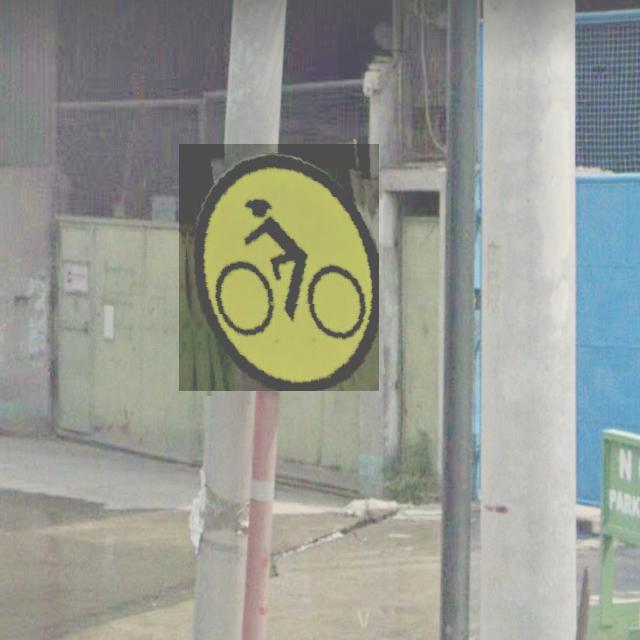bike lane: (179, 144, 379, 391)
